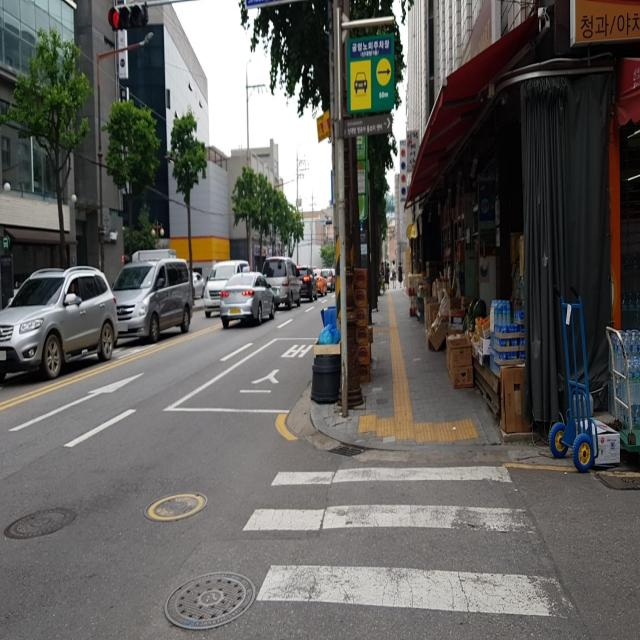횡단보도: (241, 463, 578, 622)
